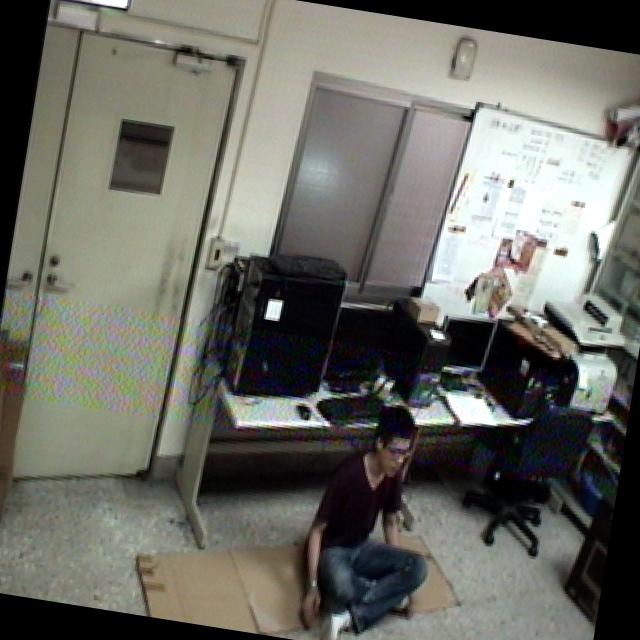sit: (278, 389, 457, 640)
